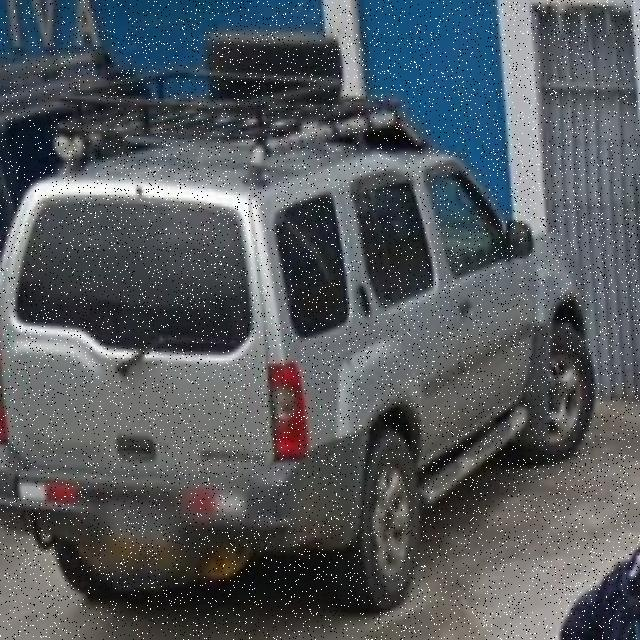cars: (0, 109, 588, 599)
